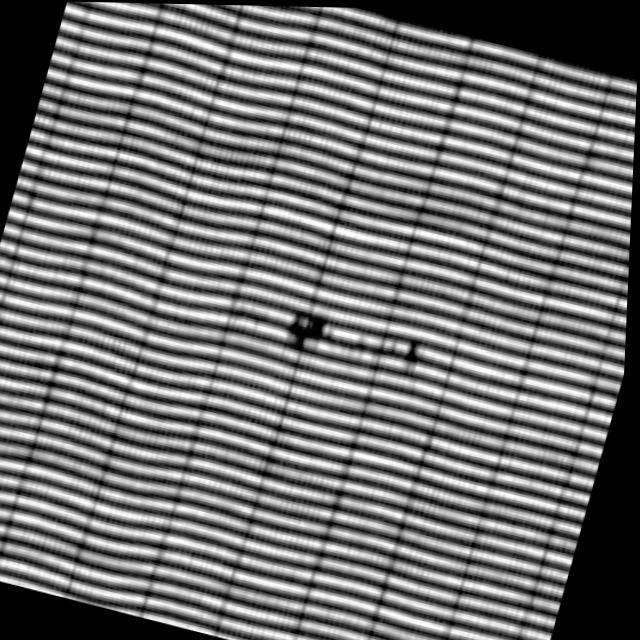Stitch: (266, 279, 441, 401)
